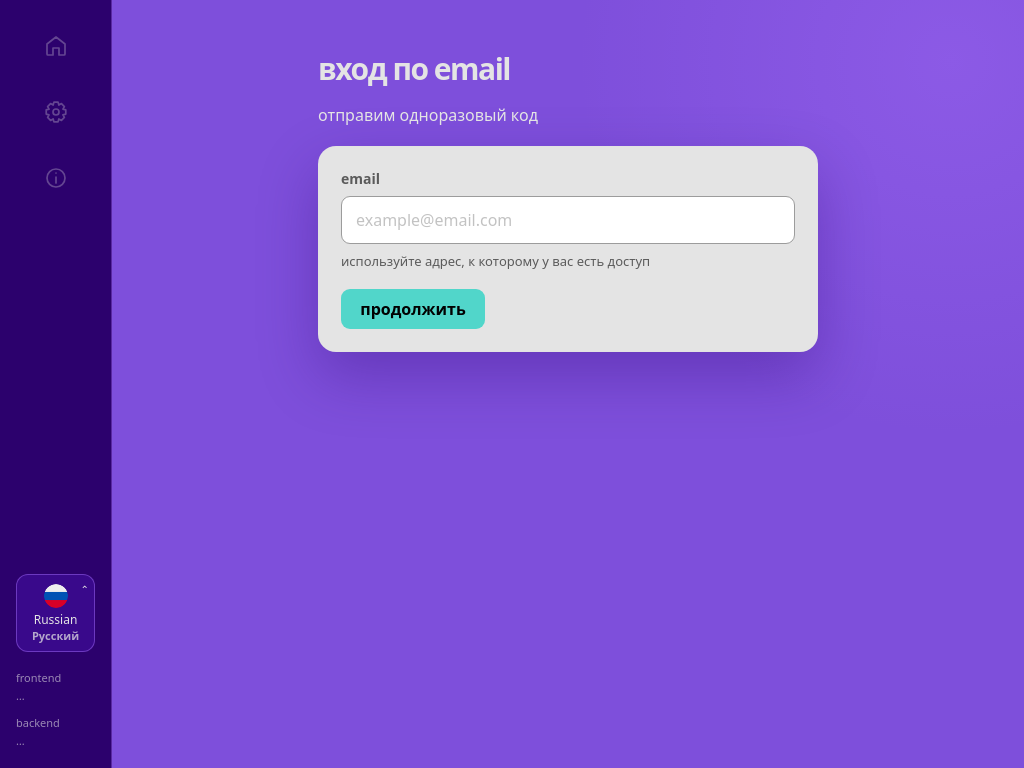
Test: email login › normalizes email and navigates to the generic OTP screen
The image size is (1024, 768).
Type "  User@Example.COM  " into the field labelled "Email" at [568, 220], box [341,196,795,244]
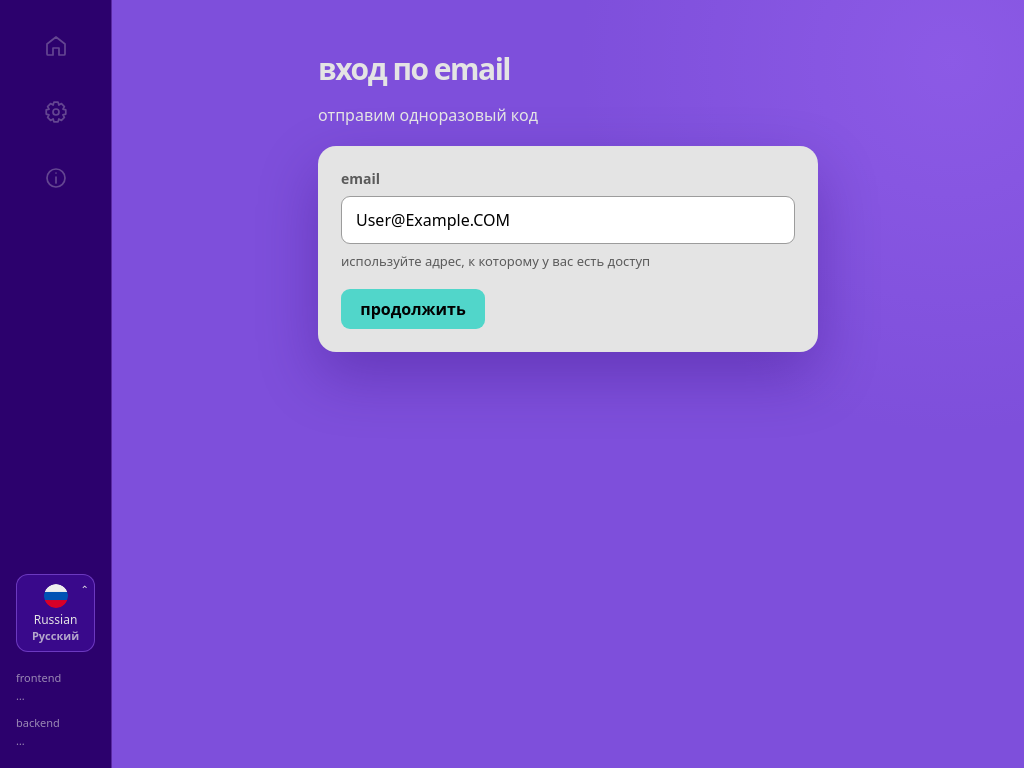
Click the button "продолжить" at [413, 309], box [341,289,485,329]
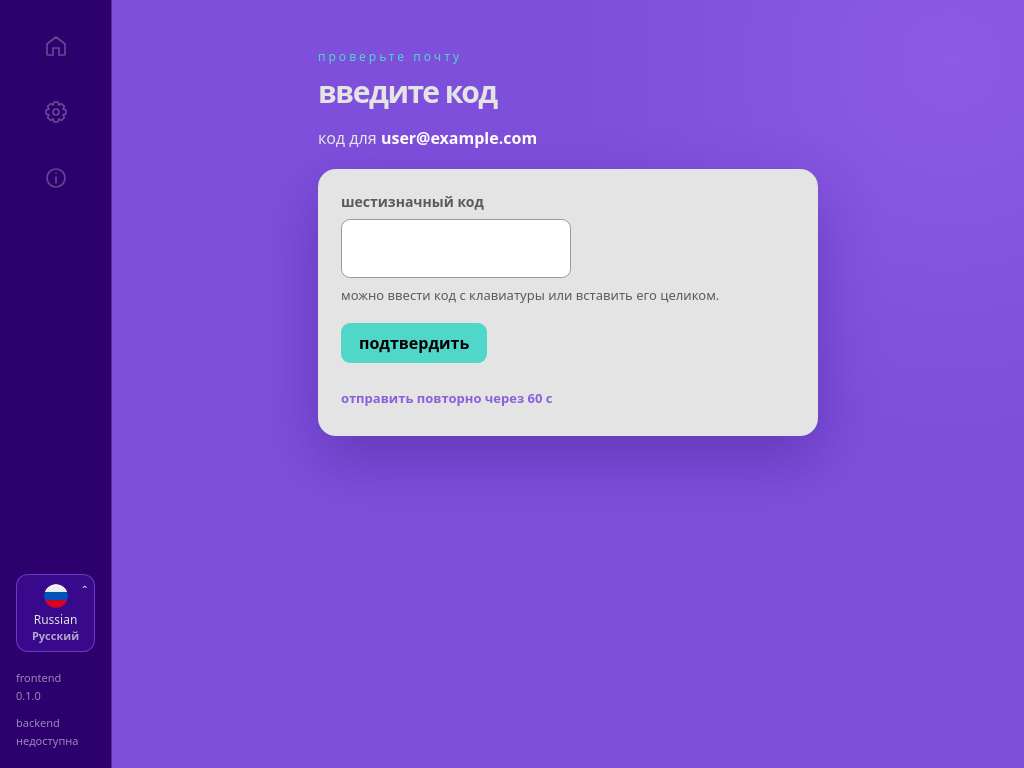
Check: the heading "введите код" is shown, box [318,71,497,112]
Check: the text "user@example.com" is shown, box [381,127,537,149]
